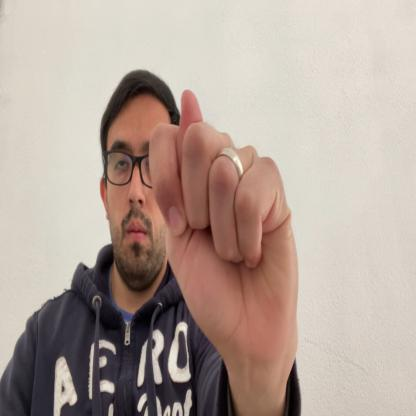T: (150, 90, 300, 359)
